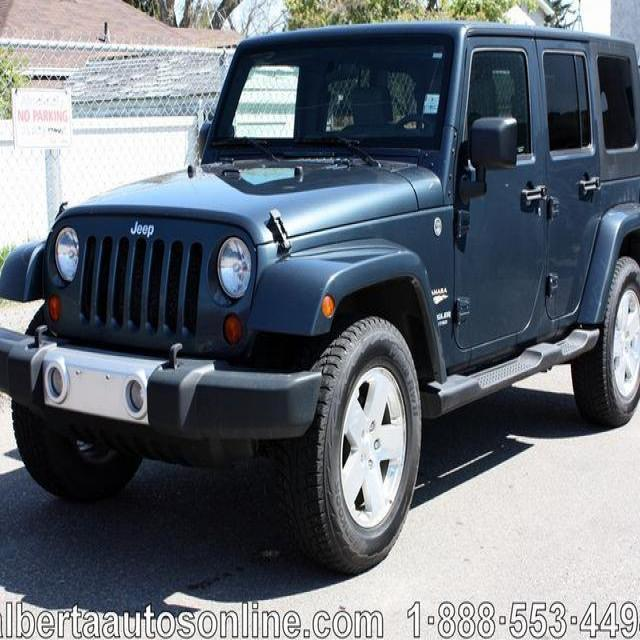Zeep: (1, 1, 640, 569)
